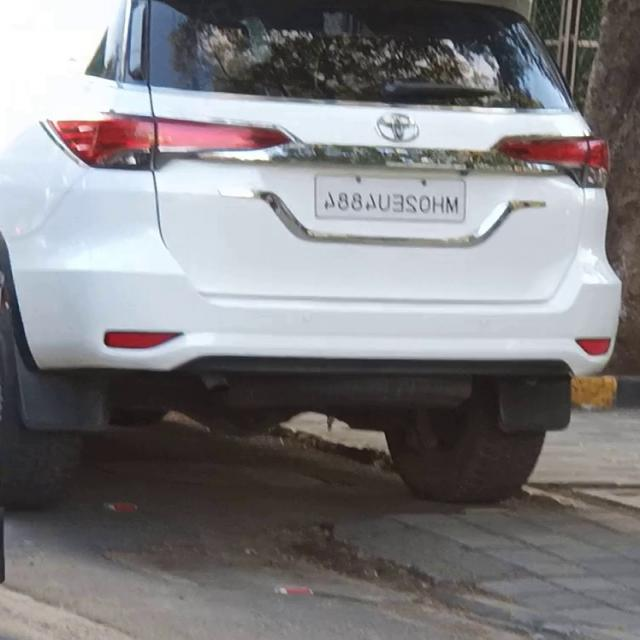license_plate: (308, 168, 471, 226)
